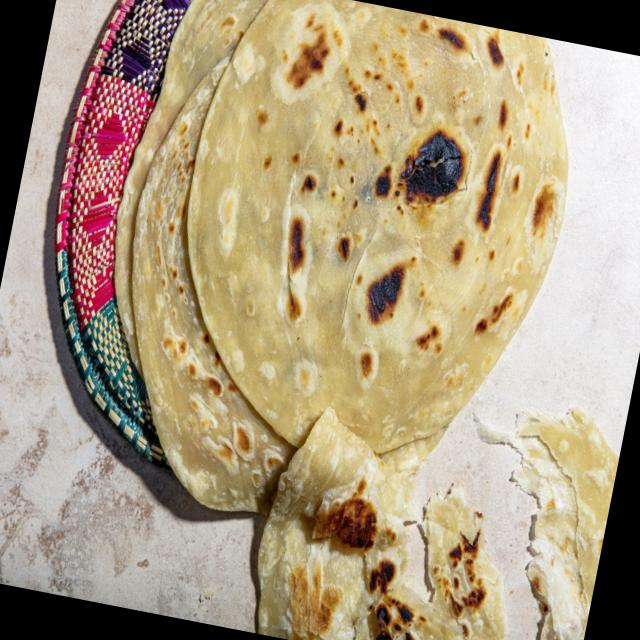roti: (113, 0, 576, 640), (422, 492, 516, 640)
